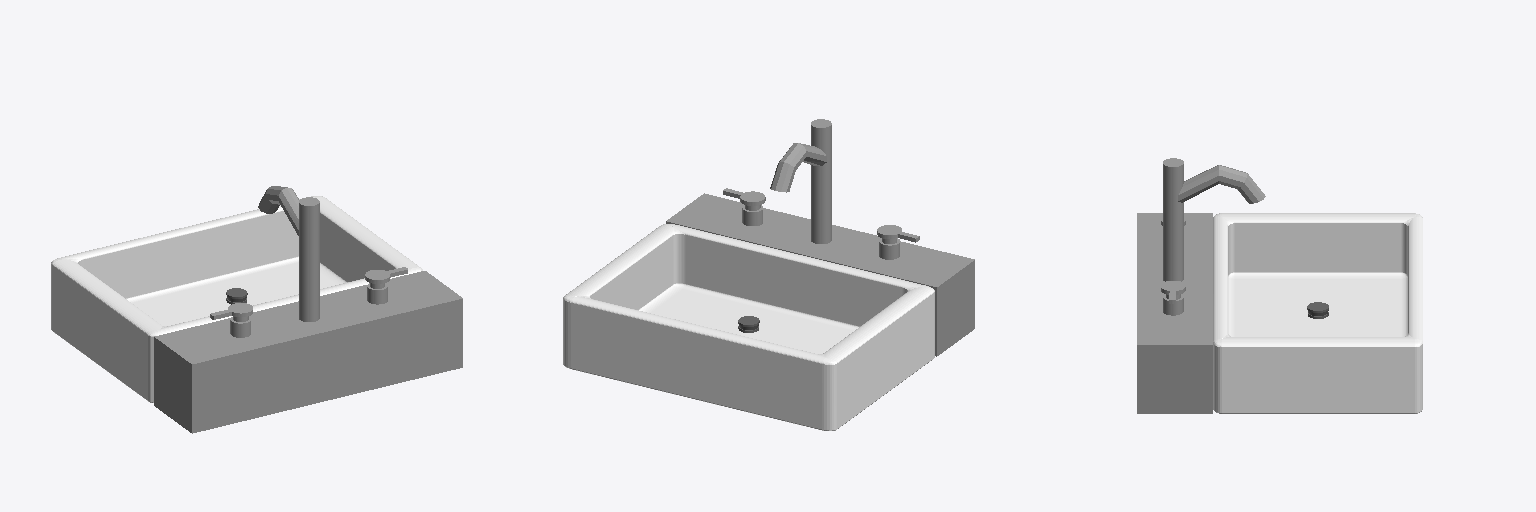
3 views of the same model, side by side, from view 1: azimuth 30°, elevation 25°; view 2: azimuth 150°, elevation 25°; view 3: azimuth 270°, elevation 25° (orthographic).
Visible parts, largest first — view 1: Cylinder, Cube; view 2: Cube, Cylinder; view 3: Cube, Cylinder.
Boxes of the visible parts, x1,y1,x2,y2 form: Cylinder: [154, 186, 462, 433]; Cube: [51, 196, 422, 402]; Cube: [563, 224, 934, 430]; Cylinder: [666, 119, 974, 356]; Cube: [1213, 213, 1422, 413]; Cylinder: [1137, 158, 1265, 413].
Bounding box in the file's own units: 1.2 × 0.7825 × 1.09.
2 materials, 2 textured.